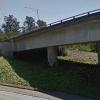Bridge: (8, 7, 95, 60)
